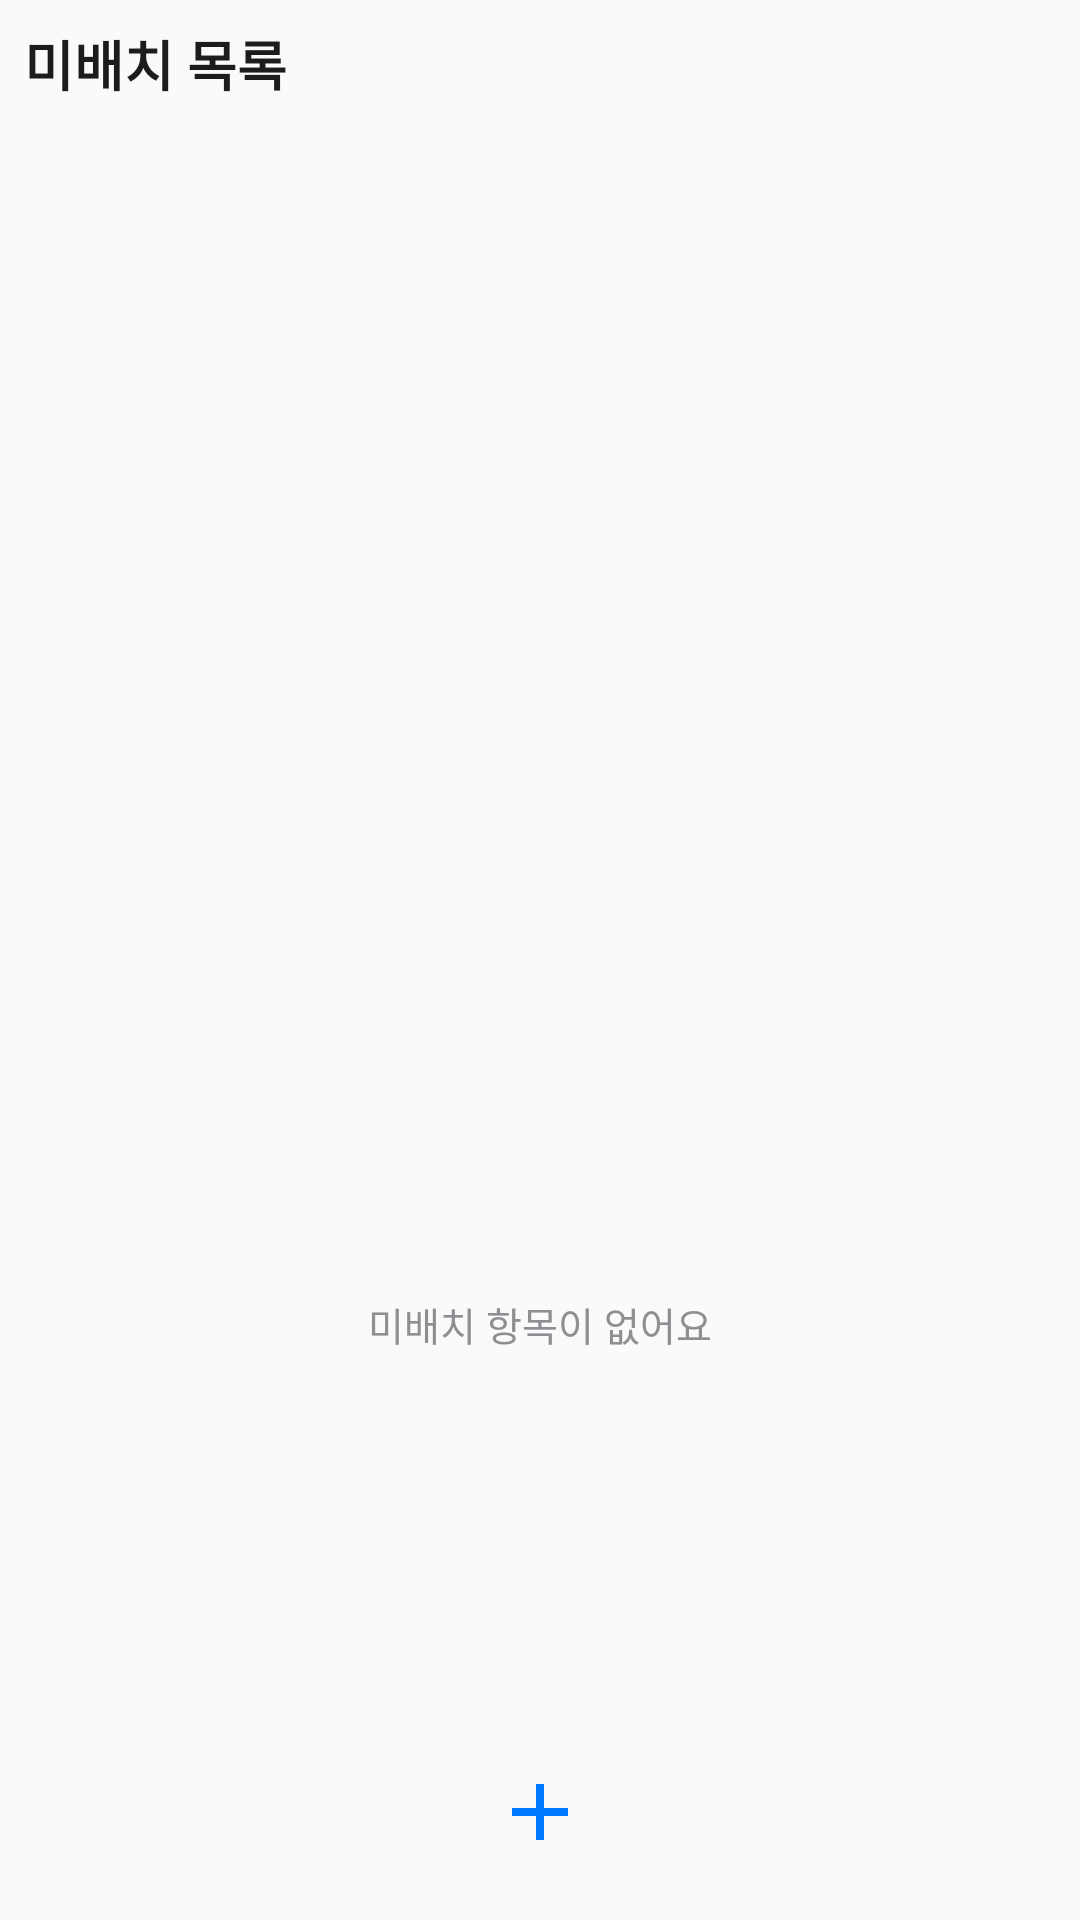

Screen size 1080 × 1920. Icon name, then its center in pixels as (x,y):
미배치 항목 추가: (540,1812)
